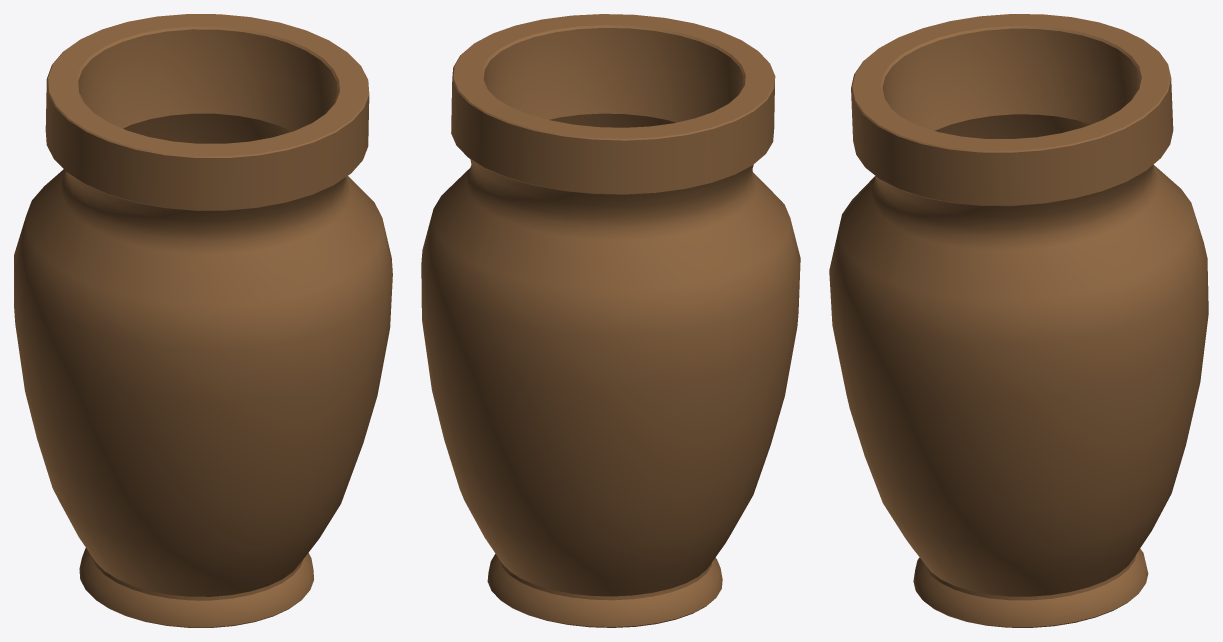
The model's file is Pot2.fbx.
The picture shows the model from 3 angles, left to right: view 1: azimuth 30°, elevation 25°; view 2: azimuth 150°, elevation 25°; view 3: azimuth 270°, elevation 25°; orthographic projection.
Visible parts, largest first — view 1: Pot2.001; view 2: Pot2.001; view 3: Pot2.001.
Boxes of the visible parts, x1,y1,x2,y2 form: Pot2.001: [14, 14, 392, 627]; Pot2.001: [421, 14, 800, 627]; Pot2.001: [829, 14, 1208, 627].
Bounding box in the file's own units: 45.07 × 66.34 × 45.05.
1 material, 1 textured.
